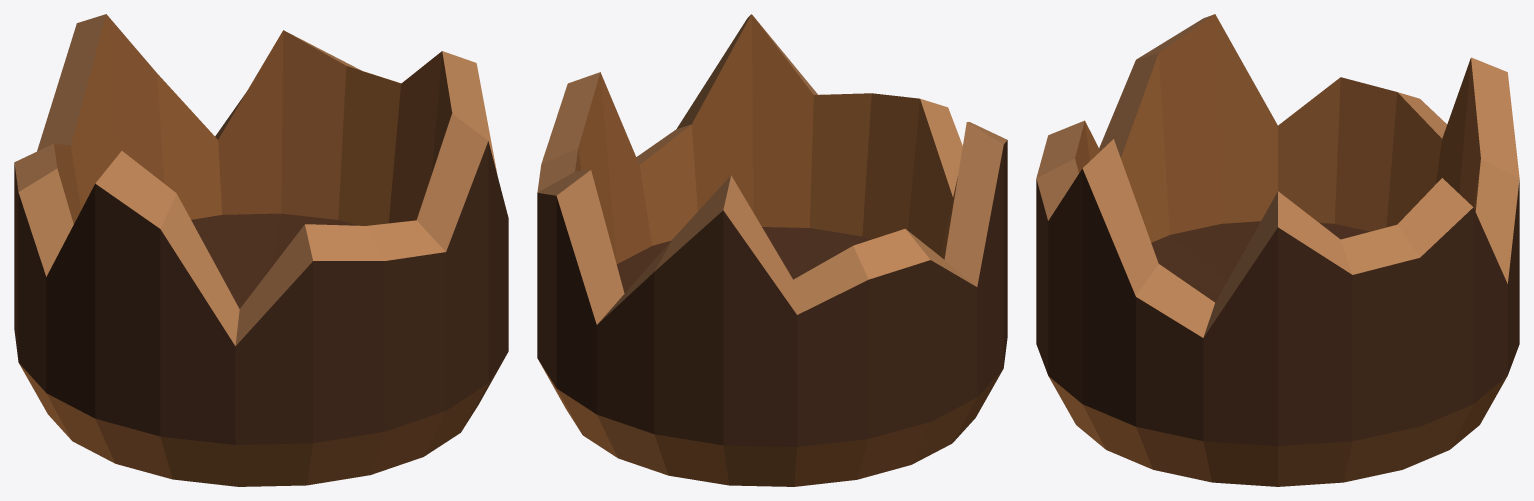
The model's file is beer_bottle_piece_heel.glb.
3 renders of one model, left to right at view 1: azimuth 30°, elevation 25°; view 2: azimuth 150°, elevation 25°; view 3: azimuth 270°, elevation 25°, orthographic. The views are drawn at different scales.
Parts seen in each view (by area): view 1: Jagged heavy heel and bottom; view 2: Jagged heavy heel and bottom; view 3: Jagged heavy heel and bottom.
Boxes of the visible parts, bbox=[...] form: Jagged heavy heel and bottom: bbox=[14, 14, 508, 486]; Jagged heavy heel and bottom: bbox=[537, 14, 1007, 486]; Jagged heavy heel and bottom: bbox=[1036, 14, 1519, 486].
Size of the model in its own units: 0.066 by 0.0472 by 0.066.
